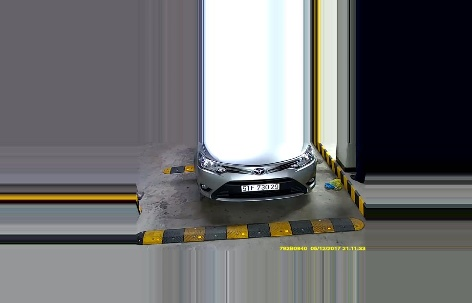plate: (240, 181, 281, 193)
